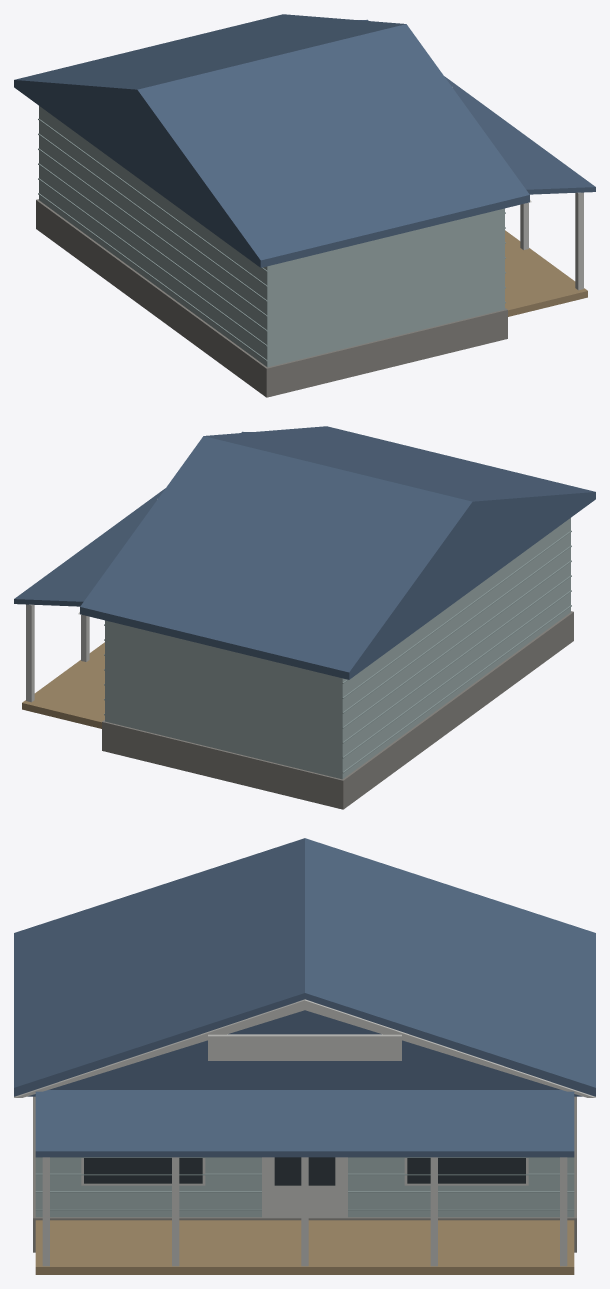
File: SM_Prop_cafe_building_13_LOD1.glb
3 views of the same model, one above another, from view 1: azimuth 30°, elevation 25°; view 2: azimuth 150°, elevation 25°; view 3: azimuth 270°, elevation 25° (orthographic). The views are drawn at different scales.
Parts seen in each view (by area): view 1: SM_Prop_cafe_building_13_LOD1; view 2: SM_Prop_cafe_building_13_LOD1; view 3: SM_Prop_cafe_building_13_LOD1.
Part boxes in pixels (x1,y1,x2,y2): SM_Prop_cafe_building_13_LOD1: (14, 14, 595, 397); SM_Prop_cafe_building_13_LOD1: (14, 426, 595, 809); SM_Prop_cafe_building_13_LOD1: (14, 838, 595, 1274).
Bounding box in the file's own units: 8.7 × 5.48 × 10.8.
